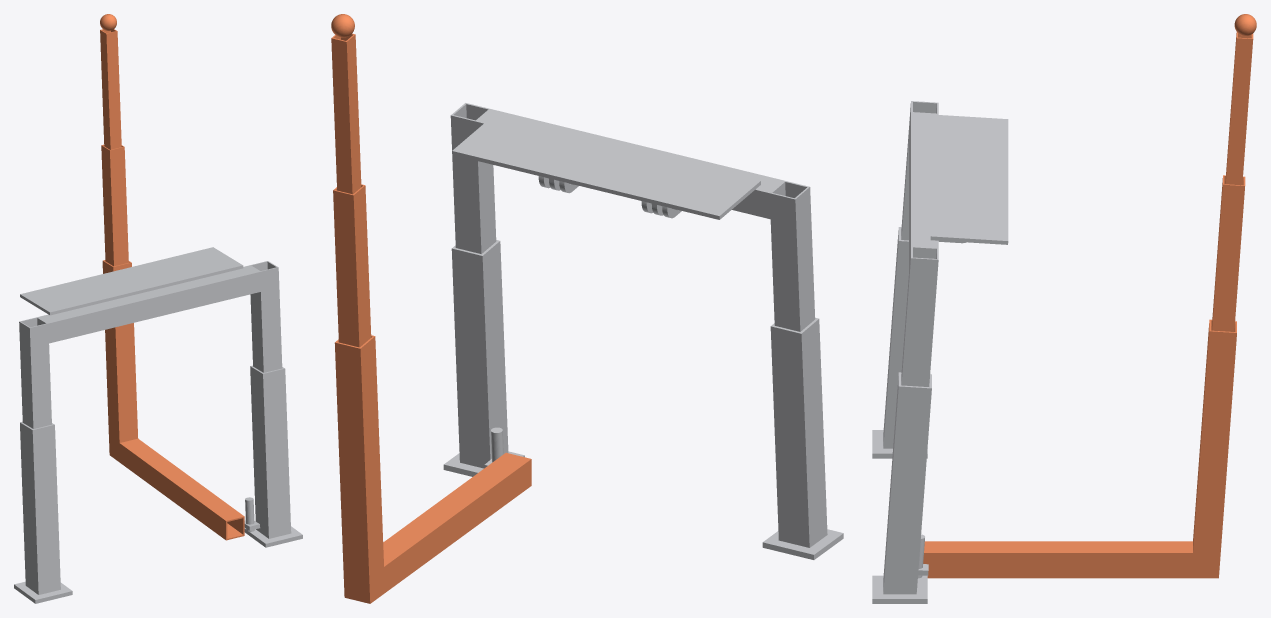
The model's file is center_stand_extended.glb.
3 renders of one model, left to right at view 1: azimuth 30°, elevation 25°; view 2: azimuth 150°, elevation 25°; view 3: azimuth 270°, elevation 25°, orthographic. The views are drawn at different scales.
Parts seen in each view (by area): view 1: frame, handle; view 2: frame, handle; view 3: frame, handle.
Part boxes in pixels (x1,y1,x2,y2): frame: (14,247,302,603); handle: (100,14,244,540); frame: (443,103,843,559); handle: (331,14,531,603); frame: (872,101,1008,603); handle: (923,14,1256,578).
Size of the model in its own units: 0.4572 by 0.7034 by 0.4398.
